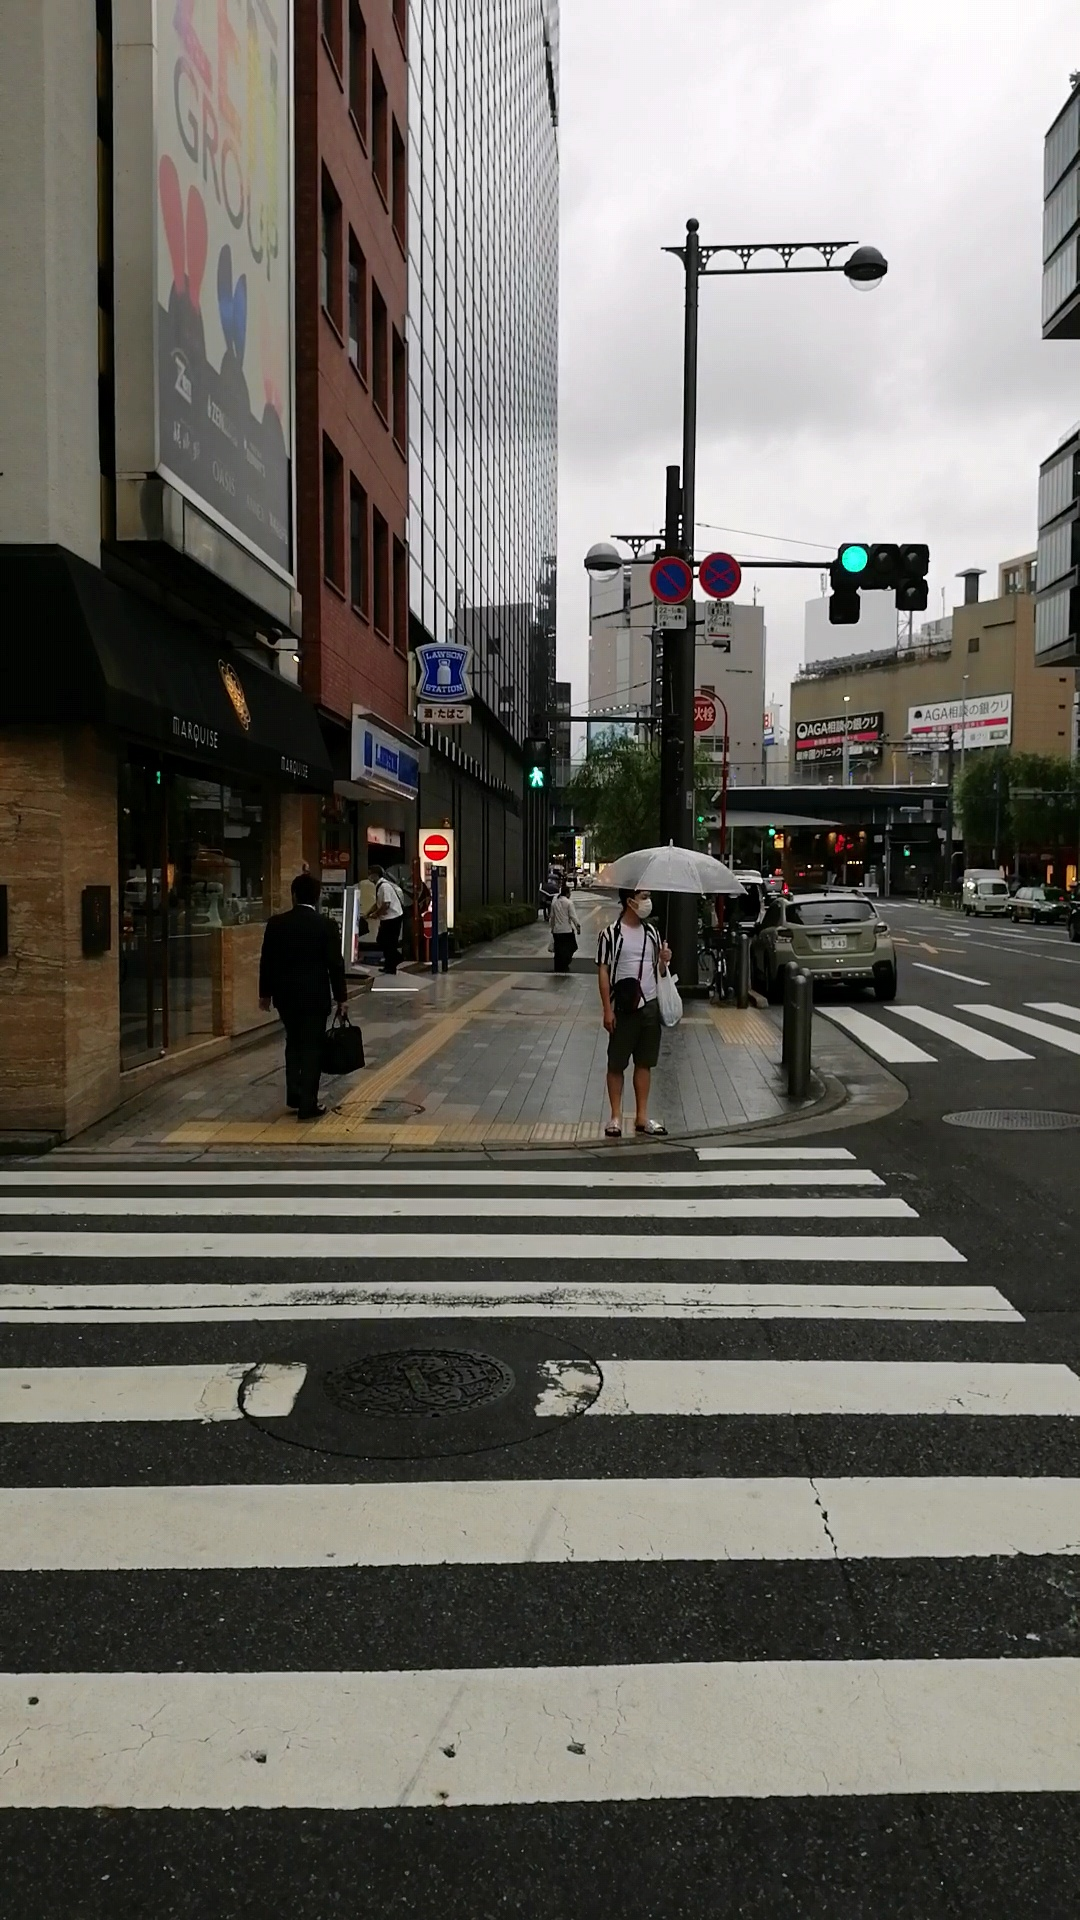green: (522, 737, 551, 793)
